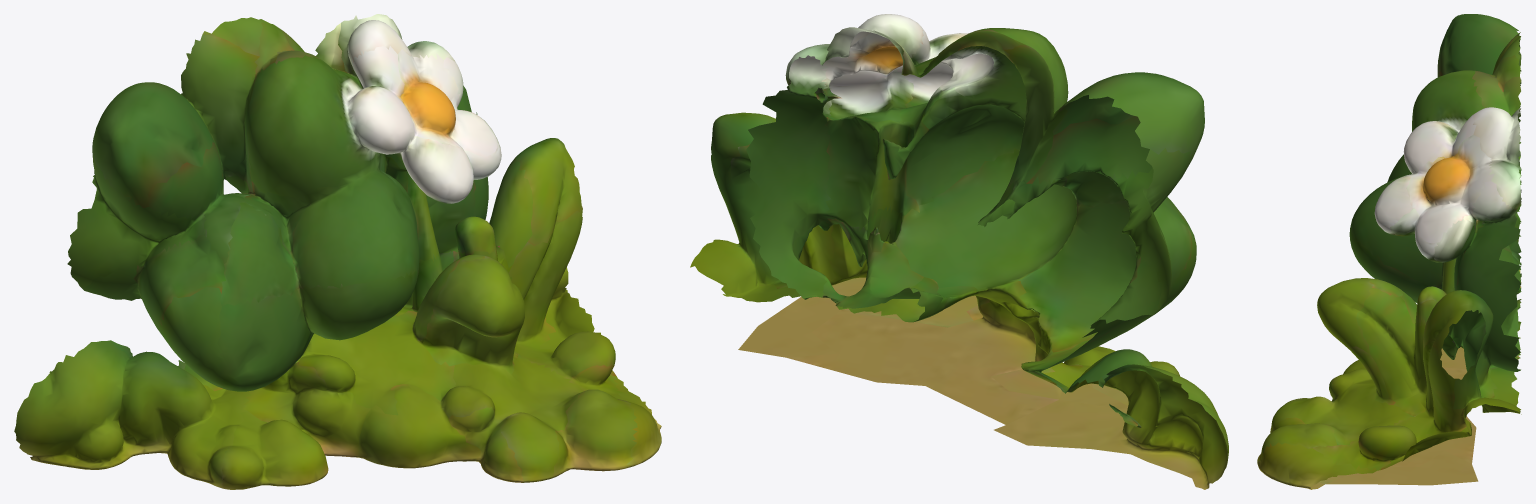
File: cottage-flowers.glb
The picture shows the model from 3 angles, left to right: view 1: azimuth 30°, elevation 25°; view 2: azimuth 150°, elevation 25°; view 3: azimuth 270°, elevation 25°; orthographic projection. The views are drawn at different scales.
Parts seen in each view (by area): view 1: Original cottage front flowers; view 2: Original cottage front flowers; view 3: Original cottage front flowers.
Boxes of the visible parts, x1=… form: Original cottage front flowers: x1=14, y1=14, x2=661, y2=489; Original cottage front flowers: x1=690, y1=14, x2=1228, y2=489; Original cottage front flowers: x1=1257, y1=14, x2=1521, y2=489.
Size of the model in its own units: 0.3628 by 0.2604 by 0.19.
1 material, 1 textured.
